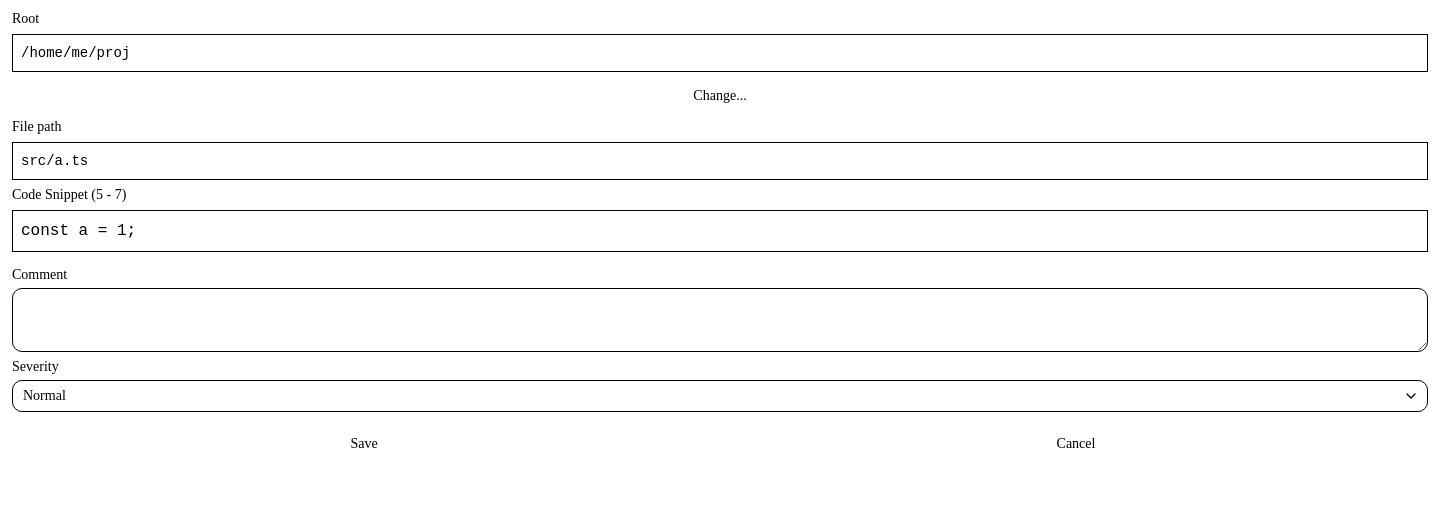
Test: App › shows the error and keeps the form, values and old root when changeRootResult fails
The width and height of the screenshot is (1440, 509).
Type "keep me" into the text box.
click(720, 320); type("keep me")  # box left=12, top=288, right=1428, bottom=352
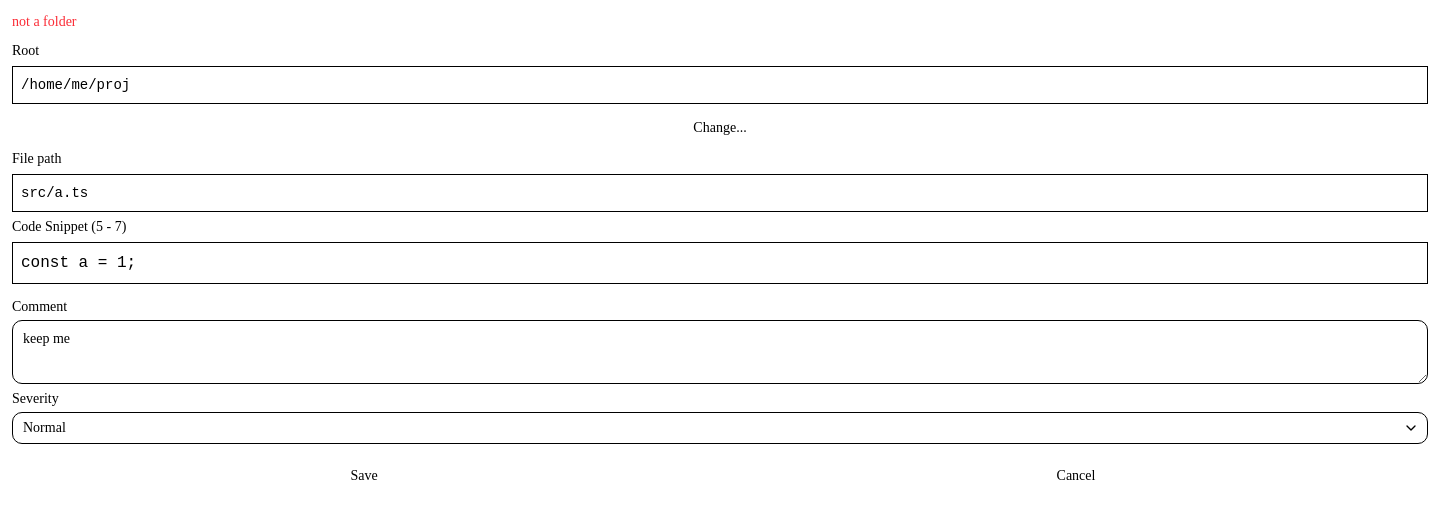
Expected: the text "/home/me/proj" is shown, left=12, top=66, right=1428, bottom=104
Expected: the message reads "not a folder", left=12, top=14, right=76, bottom=29
